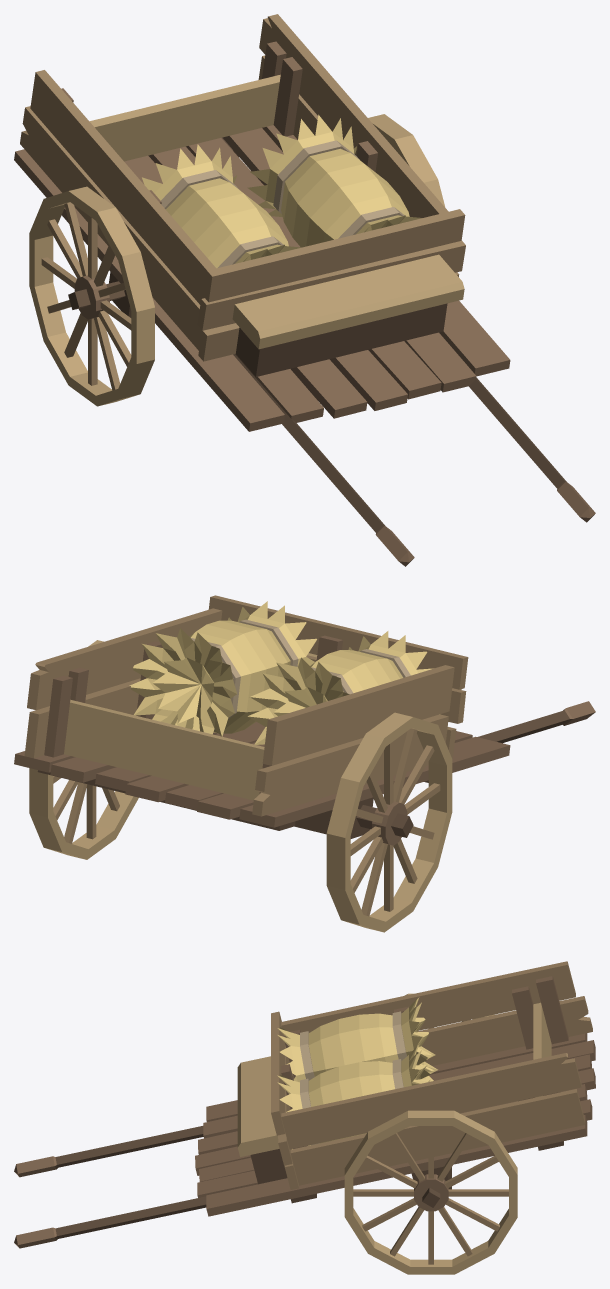
The model's file is Prop_Cart_1_Hay.glb.
3 renders of one model, top to bottom at view 1: azimuth 30°, elevation 25°; view 2: azimuth 150°, elevation 25°; view 3: azimuth 270°, elevation 25°, orthographic. The views are drawn at different scales.
Parts seen in each view (by area): view 1: Prop_Cart_1_Hay; view 2: Prop_Cart_1_Hay; view 3: Prop_Cart_1_Hay.
Part boxes in pixels (left/top/right/bottom): Prop_Cart_1_Hay: left=14, top=14, right=595, bottom=566; Prop_Cart_1_Hay: left=14, top=595, right=595, bottom=932; Prop_Cart_1_Hay: left=14, top=961, right=595, bottom=1274.
Size of the model in its own units: 1.8 by 1.3 by 3.36.
